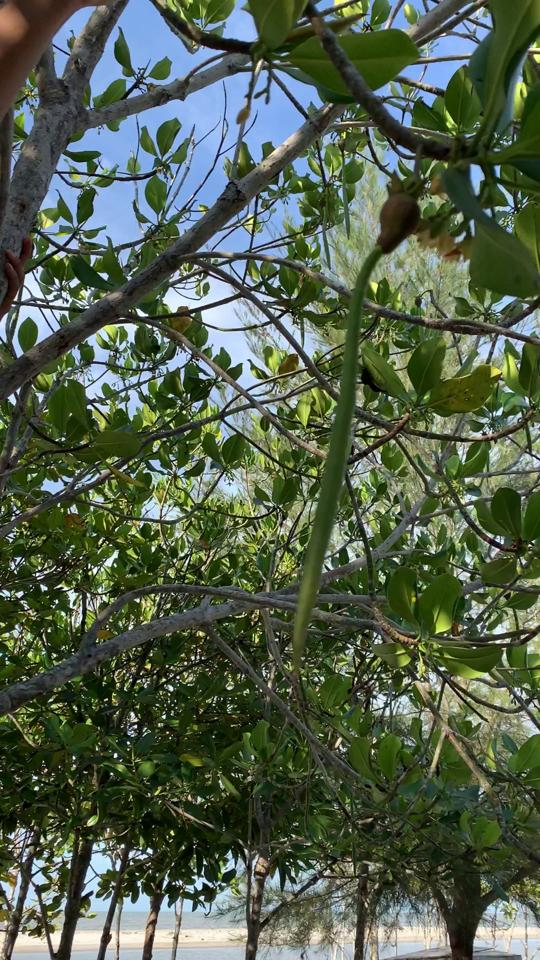mentah: (267, 167, 437, 689)
